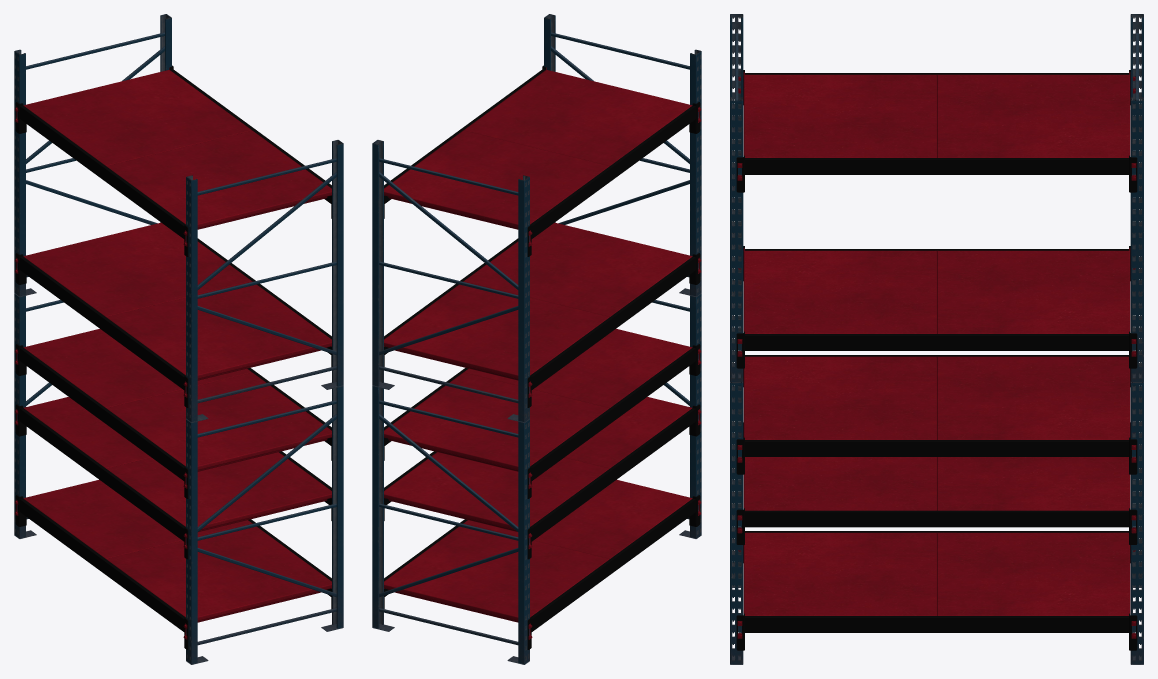
File: Rack_Large_Empty_1.glb
3 renders of one model, left to right at view 1: azimuth 30°, elevation 25°; view 2: azimuth 150°, elevation 25°; view 3: azimuth 270°, elevation 25°, orthographic. The views are drawn at different scales.
Parts seen in each view (by area): view 1: RackLegs_A1_2x4_01.001; view 2: RackLegs_A1_2x4_01.001; view 3: RackLegs_A1_2x4_01.001.
Boxes of the visible parts, x1,y1,x2,y2 form: RackLegs_A1_2x4_01.001: (14, 14, 343, 664); RackLegs_A1_2x4_01.001: (372, 14, 701, 664); RackLegs_A1_2x4_01.001: (730, 14, 1143, 664).
Bounding box in the file's own units: 2.07 × 6.02 × 4.
2 materials, 2 textured.
